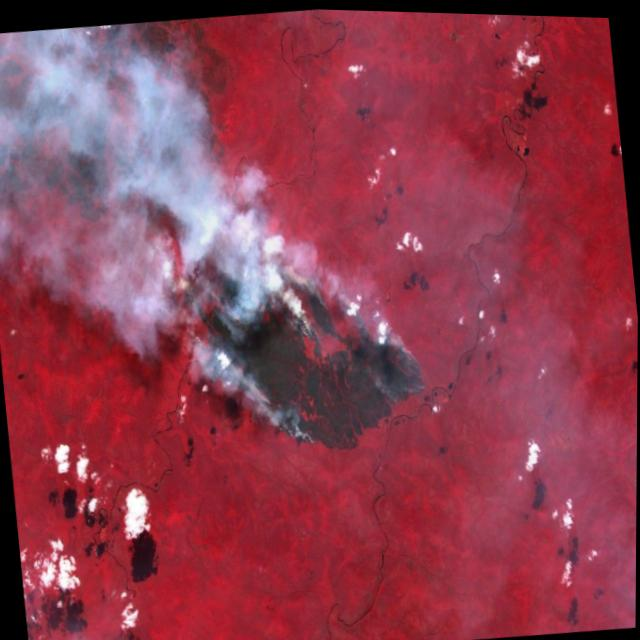fire: (181, 250, 434, 468)
